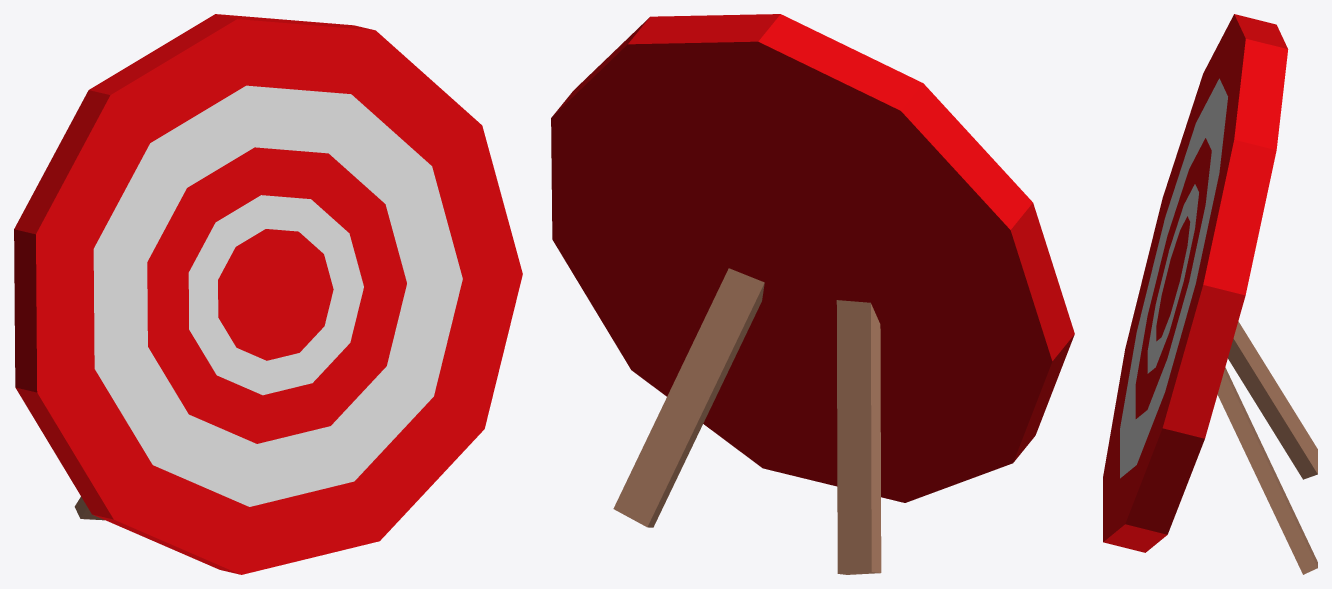
File: Target_w_stand.fbx
3 renders of one model, left to right at view 1: azimuth 30°, elevation 25°; view 2: azimuth 150°, elevation 25°; view 3: azimuth 270°, elevation 25°, orthographic. The views are drawn at different scales.
Visible parts, largest first — view 1: Cylinder.017; view 2: Cylinder.017; view 3: Cylinder.017.
Part boxes in pixels (bbox=[...]): Cylinder.017: bbox=[14, 14, 522, 574]; Cylinder.017: bbox=[551, 14, 1074, 574]; Cylinder.017: bbox=[1103, 14, 1317, 574].
Bounding box in the file's own units: 198 × 195 × 78.12.
